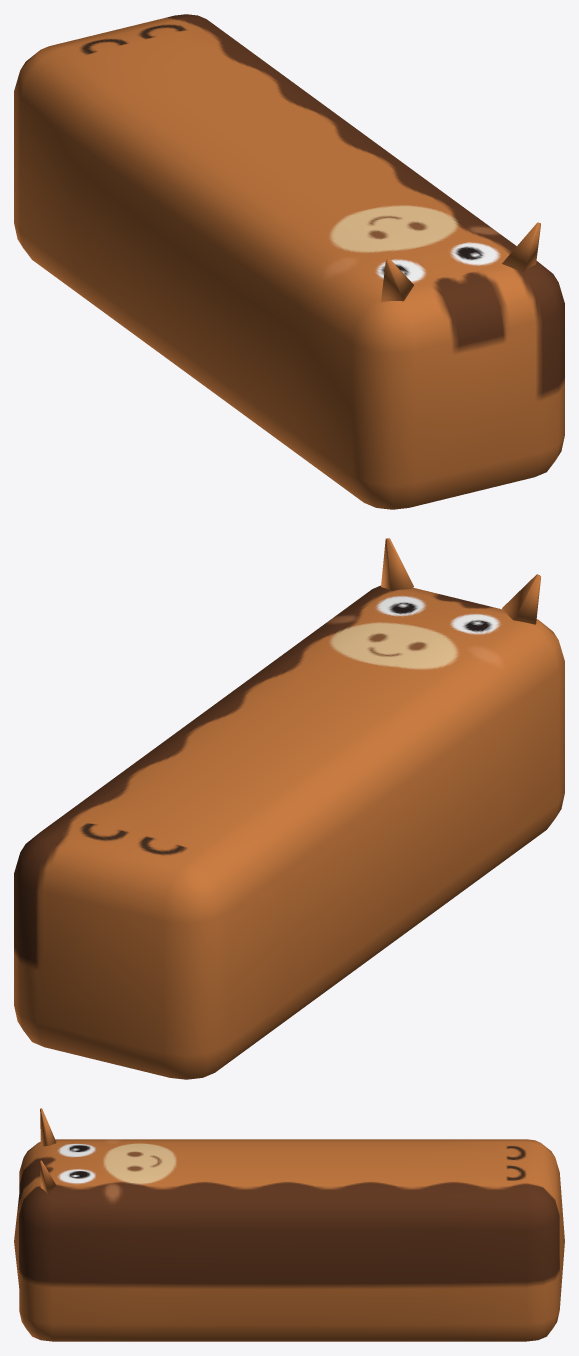
File: Horse_3x1.fbx
3 views of the same model, one above another, from view 1: azimuth 30°, elevation 25°; view 2: azimuth 150°, elevation 25°; view 3: azimuth 270°, elevation 25° (orthographic). The views are drawn at different scales.
Visible parts, largest first — view 1: Horse_3x1; view 2: Horse_3x1; view 3: Horse_3x1.
Boxes of the visible parts, box(x1,y1,x2,y2) form: Horse_3x1: box(14, 14, 564, 509); Horse_3x1: box(14, 538, 564, 1079); Horse_3x1: box(14, 1108, 564, 1341).
Size of the model in its own units: 0.976 by 1.04 by 2.98.
1 material, 1 textured.
